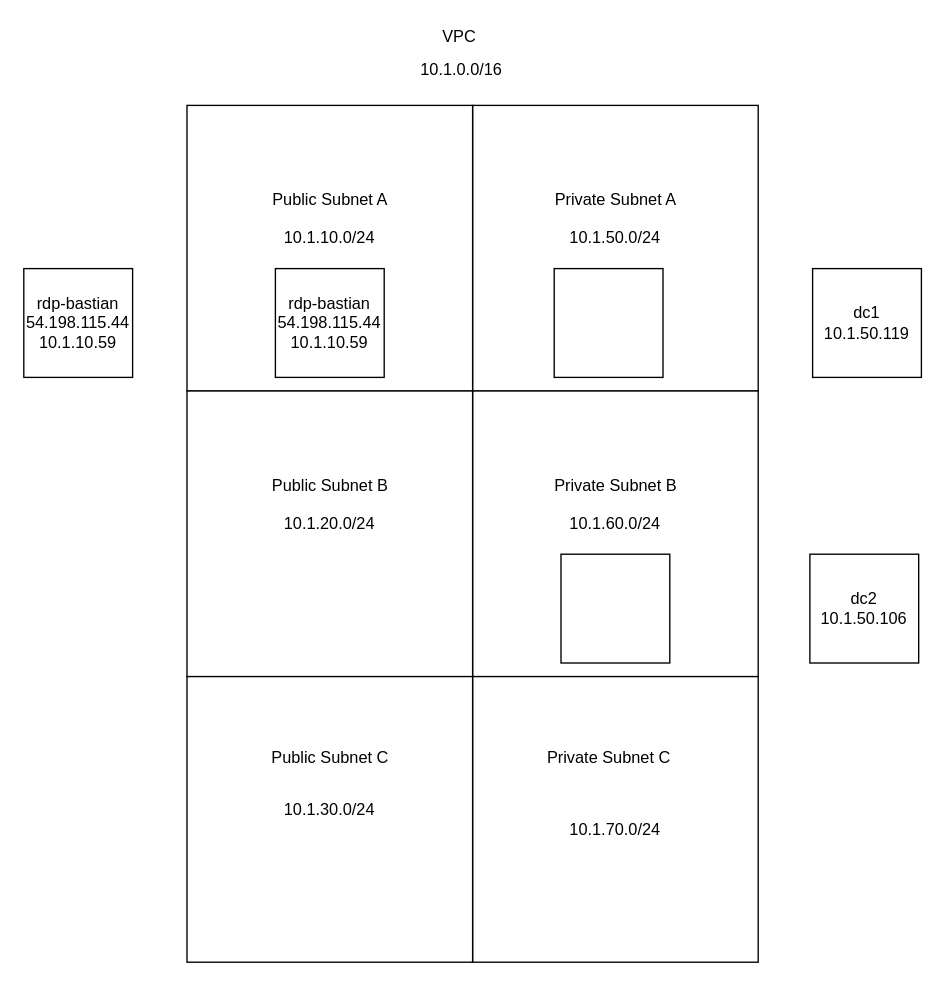
The diagram is 945 pixels wide and 986 high, and some of its shapes have lost their labels. The shapes that lost their labels are listed below. From the top down, each one's box as (x1, y1, x2, y2) in pixels, then its label:
(553, 267, 663, 377): dc1 10.1.50.124
(560, 553, 670, 663): dc2 10.1.60.253
